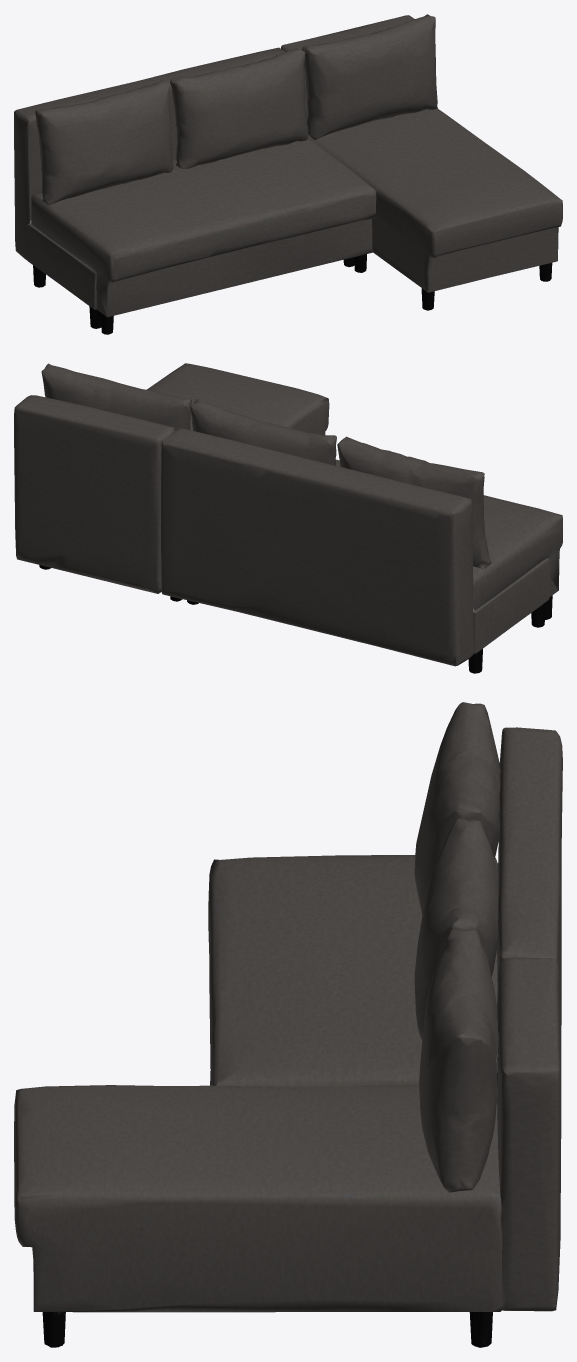
The model's file is alvdalen_3_os_sofa_rozkadana_z_szezlongiem_20530664.glb.
3 views of the same model, one above another, from view 1: azimuth 30°, elevation 25°; view 2: azimuth 150°, elevation 25°; view 3: azimuth 270°, elevation 25° (orthographic). The views are drawn at different scales.
Parts seen in each view (by area): view 1: alvdalen_3_os_sofa_rozkadana_z_szezlongiem_20530664; view 2: alvdalen_3_os_sofa_rozkadana_z_szezlongiem_20530664; view 3: alvdalen_3_os_sofa_rozkadana_z_szezlongiem_20530664.
Boxes of the visible parts, x1,y1,x2,y2 form: alvdalen_3_os_sofa_rozkadana_z_szezlongiem_20530664: (14,14,562,334); alvdalen_3_os_sofa_rozkadana_z_szezlongiem_20530664: (14,363,562,673); alvdalen_3_os_sofa_rozkadana_z_szezlongiem_20530664: (14,702,562,1347).
Size of the model in its own units: 1.97 by 0.8353 by 1.33.
Materials: 1 (1 with a texture image).
